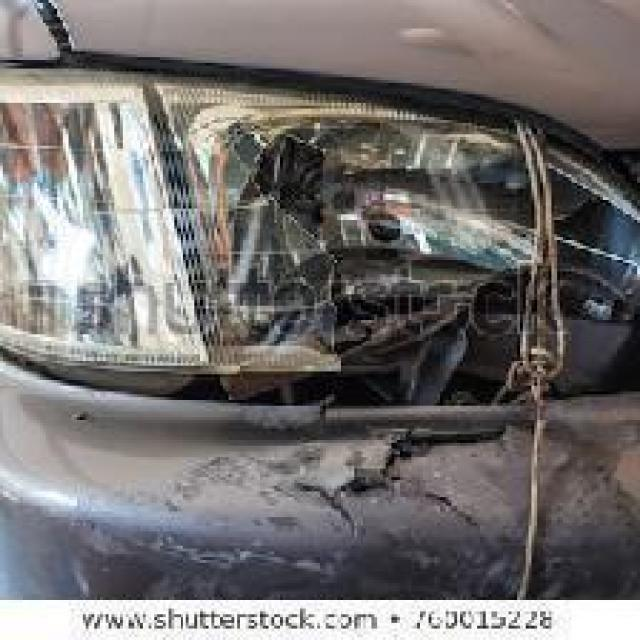damaged: (85, 80, 638, 606)
